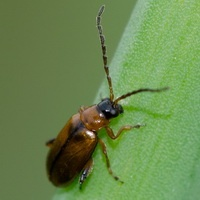insect: (46, 6, 168, 185)
